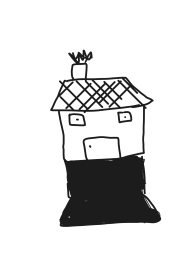door: (79, 133, 126, 162)
open_window: (62, 112, 91, 126), (116, 108, 137, 125)
roof: (48, 74, 153, 114)
shadow: (45, 155, 169, 230)
smoking_chimney: (61, 47, 97, 80)
wall: (58, 107, 148, 162)
